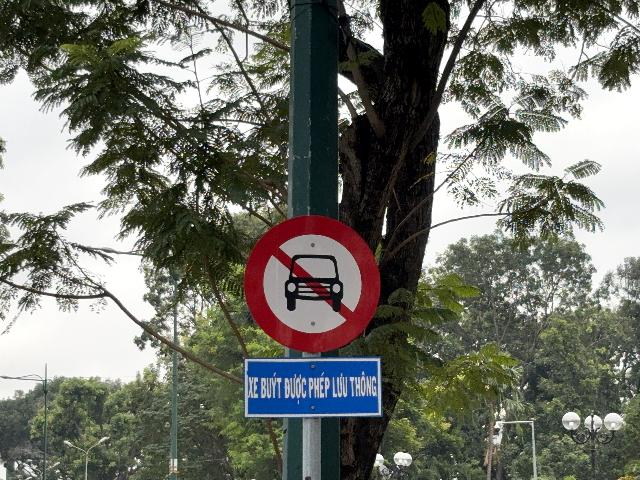cam-o-to: (244, 215, 380, 353)
